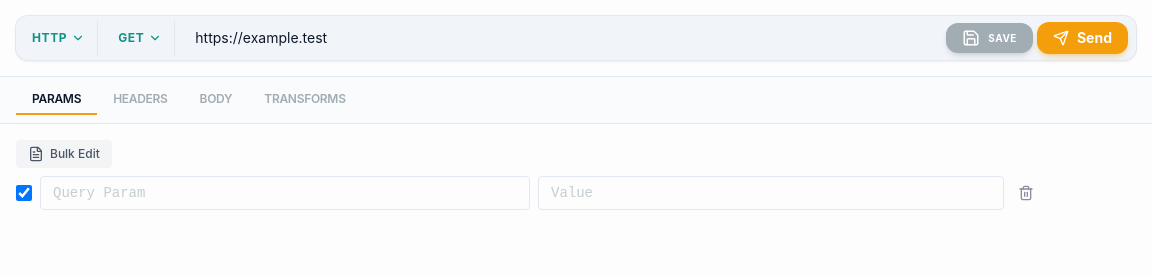
Test: RequestEditor body section › does not show template preview when a JSON body is present
The image size is (1152, 276).
Expected: the button "GET" is shown, [106,30,174,46]
Click the button "body": (216, 100) [184,85,248,115]
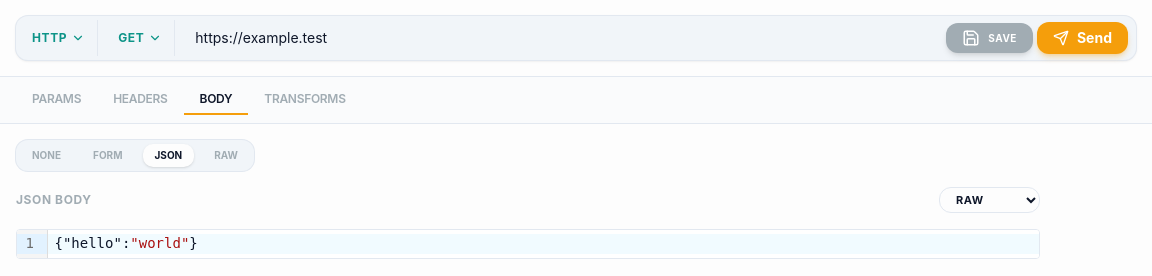
Expected: the text "JSON Body" is shown, [16,192,92,208]
